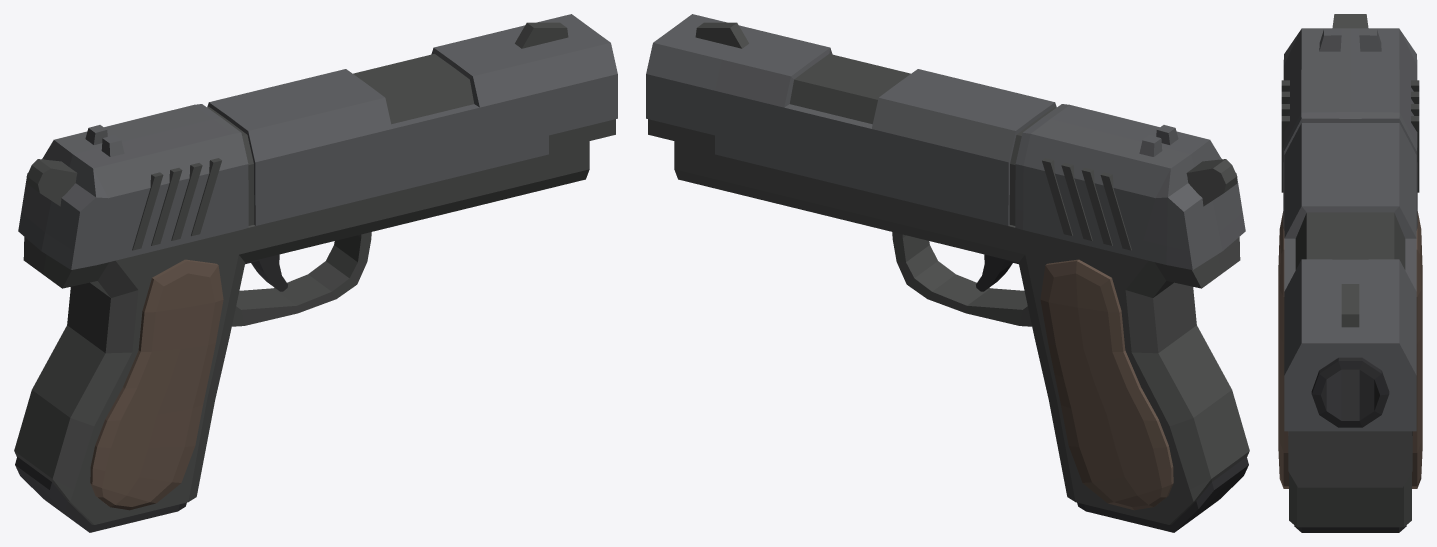
The picture shows the model from 3 angles, left to right: view 1: azimuth 30°, elevation 25°; view 2: azimuth 150°, elevation 25°; view 3: azimuth 270°, elevation 25°; orthographic projection. The views are drawn at different scales.
Visible parts, largest first — view 1: pistol_1; view 2: pistol_1; view 3: pistol_1.
Boxes of the visible parts, x1,y1,x2,y2 form: pistol_1: [14, 14, 617, 532]; pistol_1: [646, 14, 1249, 532]; pistol_1: [1278, 14, 1422, 532].
Bounding box in the file's own units: 1.82 × 1.16 × 0.3232.
